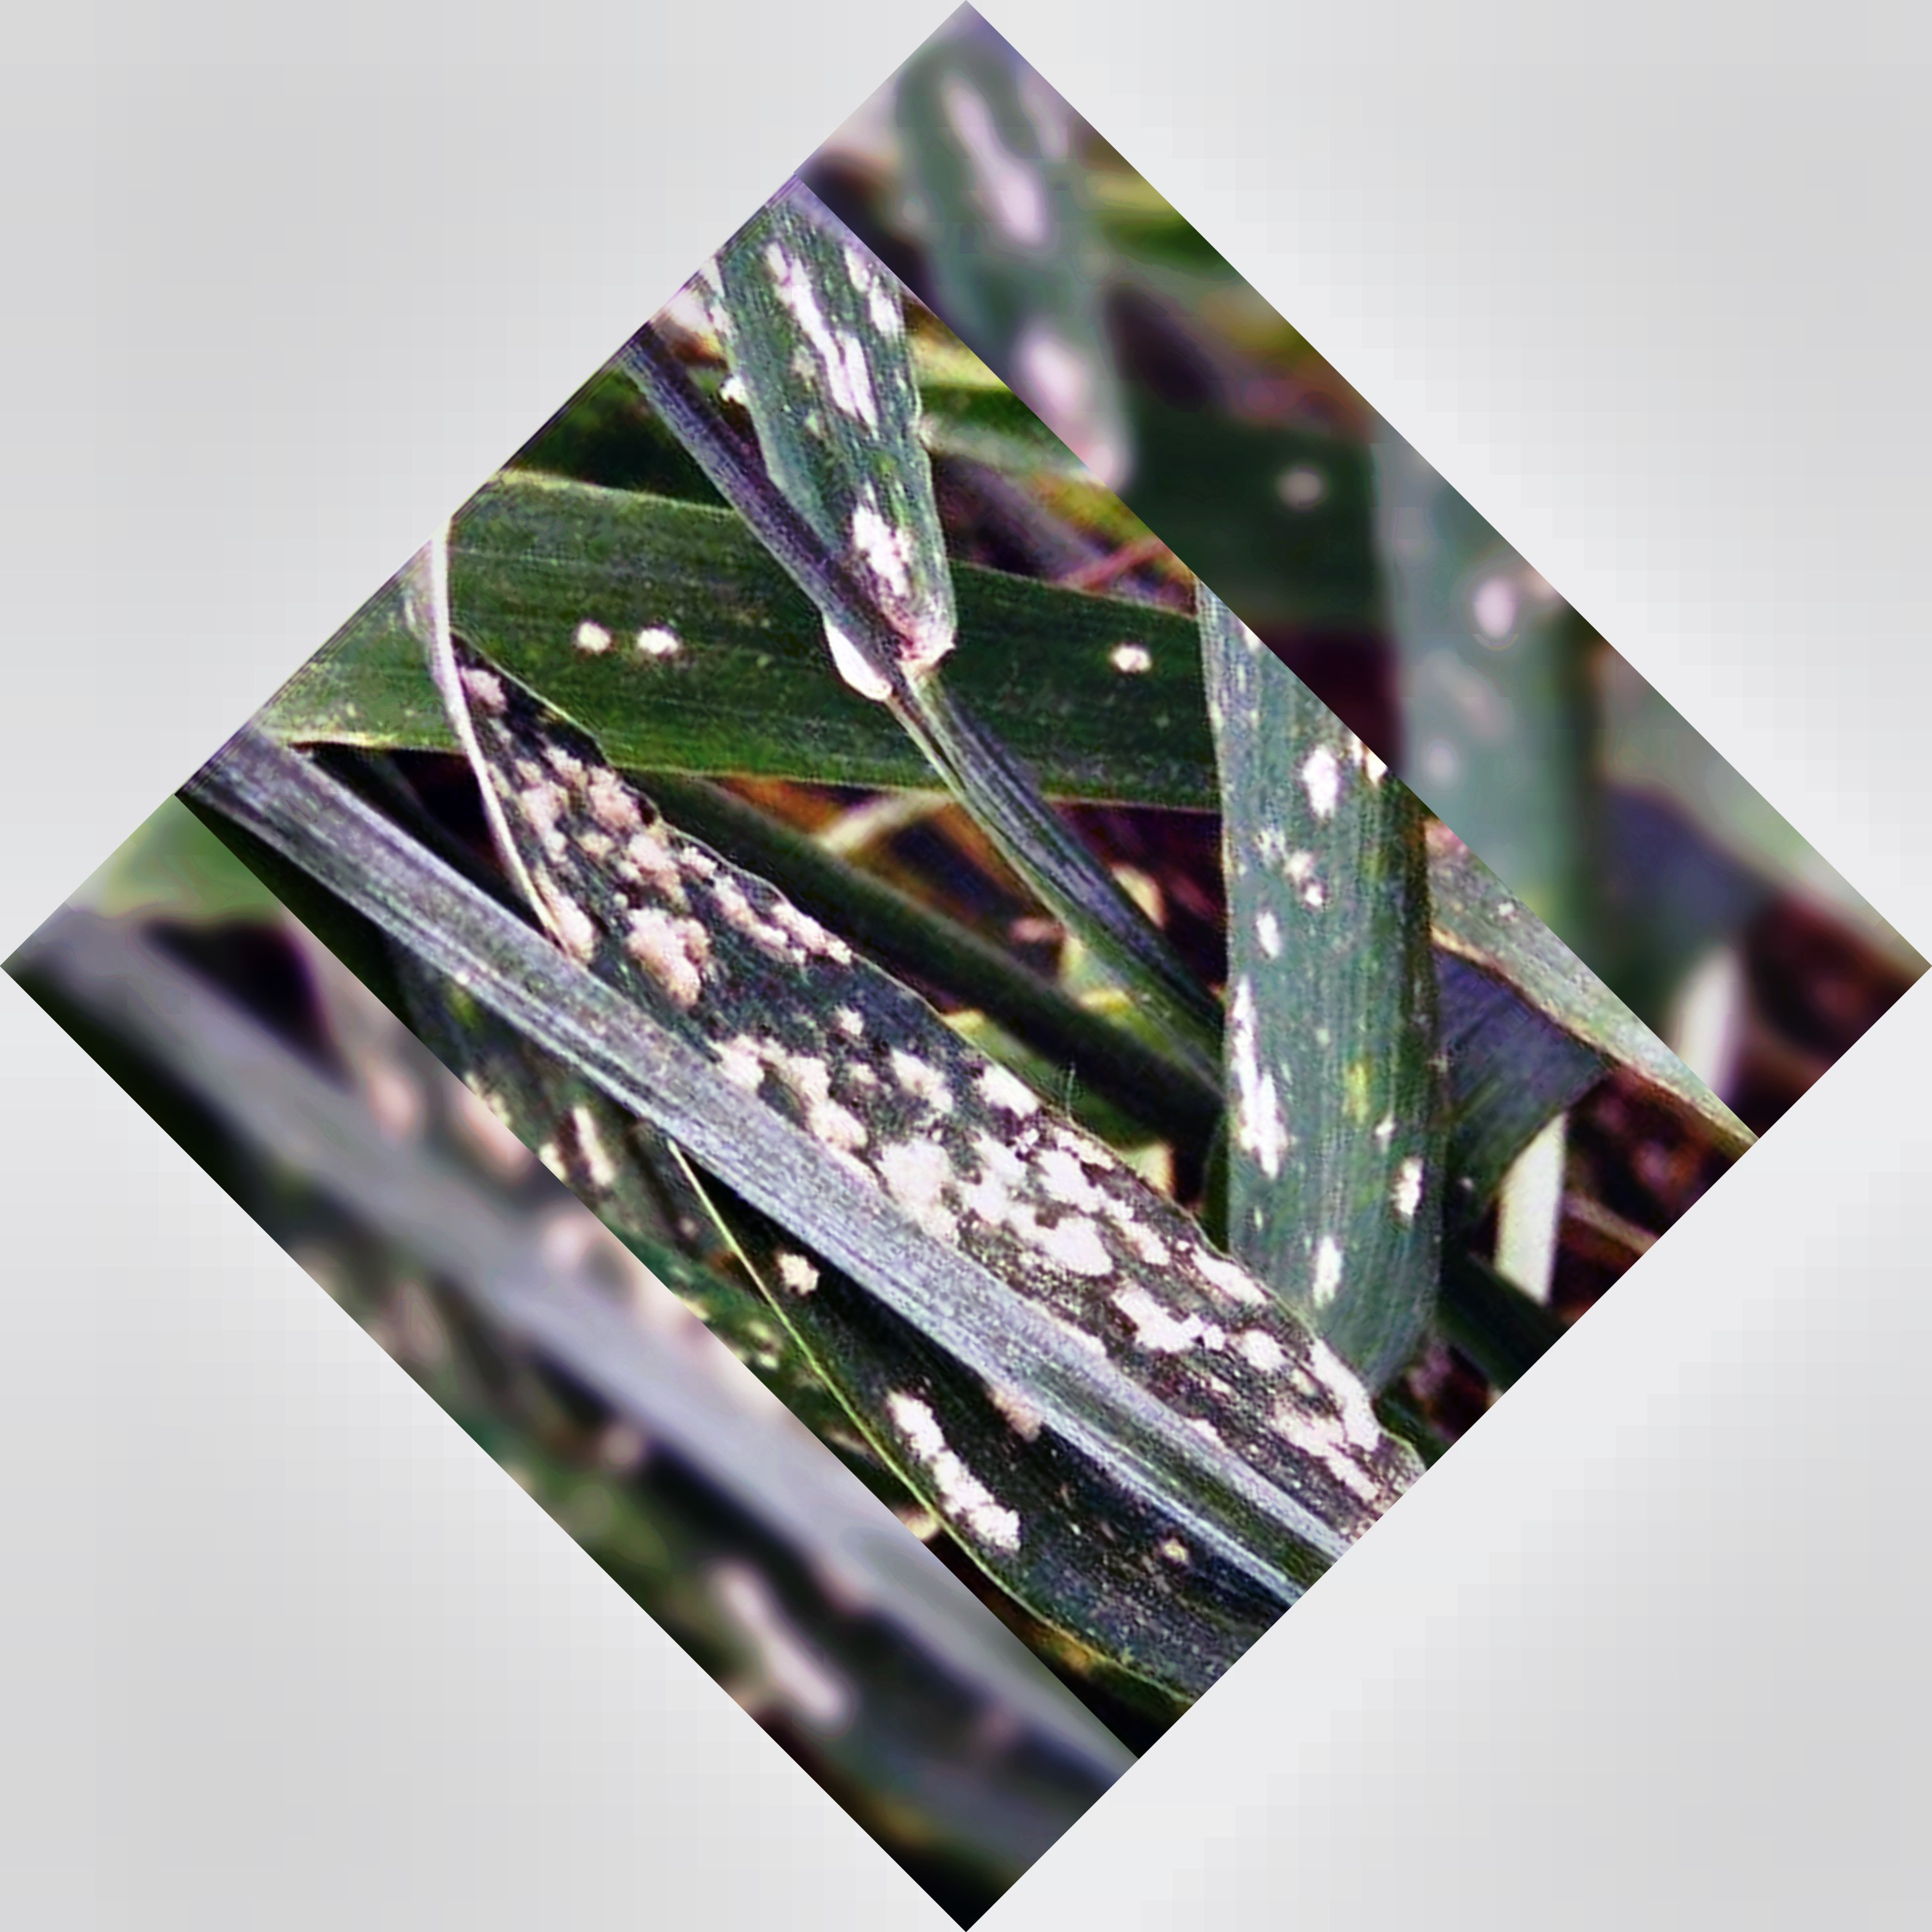Powdery Mildew: (508, 732, 1323, 1415)
